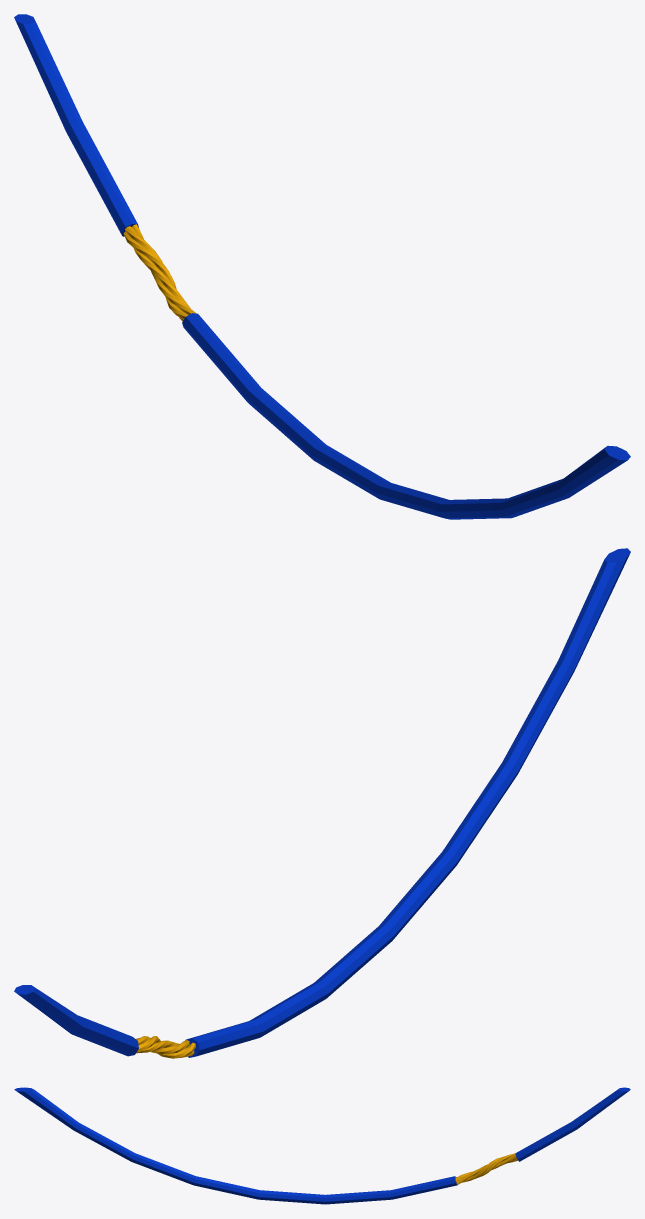
The model's file is Blue_cable.fbx.
3 views of the same model, one above another, from view 1: azimuth 30°, elevation 25°; view 2: azimuth 150°, elevation 25°; view 3: azimuth 270°, elevation 25° (orthographic). The views are drawn at different scales.
Visible parts, largest first — view 1: Rope; view 2: Rope; view 3: Rope.
Boxes of the visible parts, x1=… form: Rope: x1=14, y1=14, x2=630, y2=519; Rope: x1=14, y1=548, x2=630, y2=1058; Rope: x1=14, y1=1087, x2=630, y2=1204.
Size of the model in its own units: 1.6 by 19.02 by 92.72.
